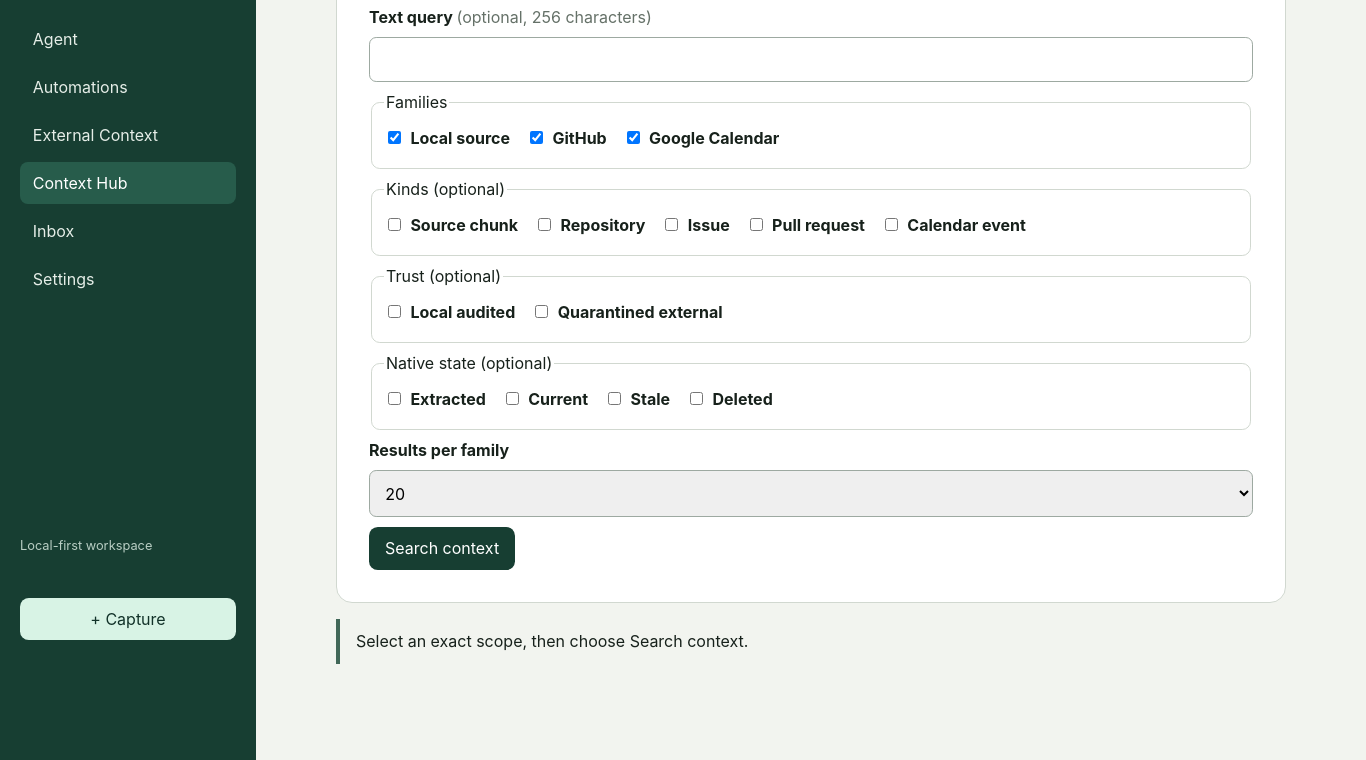
Test: Context Hub › provides the route and navigation but performs no Hub read before exact scope submission
(page scrolled)
Click the button "Search context". click: (442, 548)
box: [369,527,515,570]
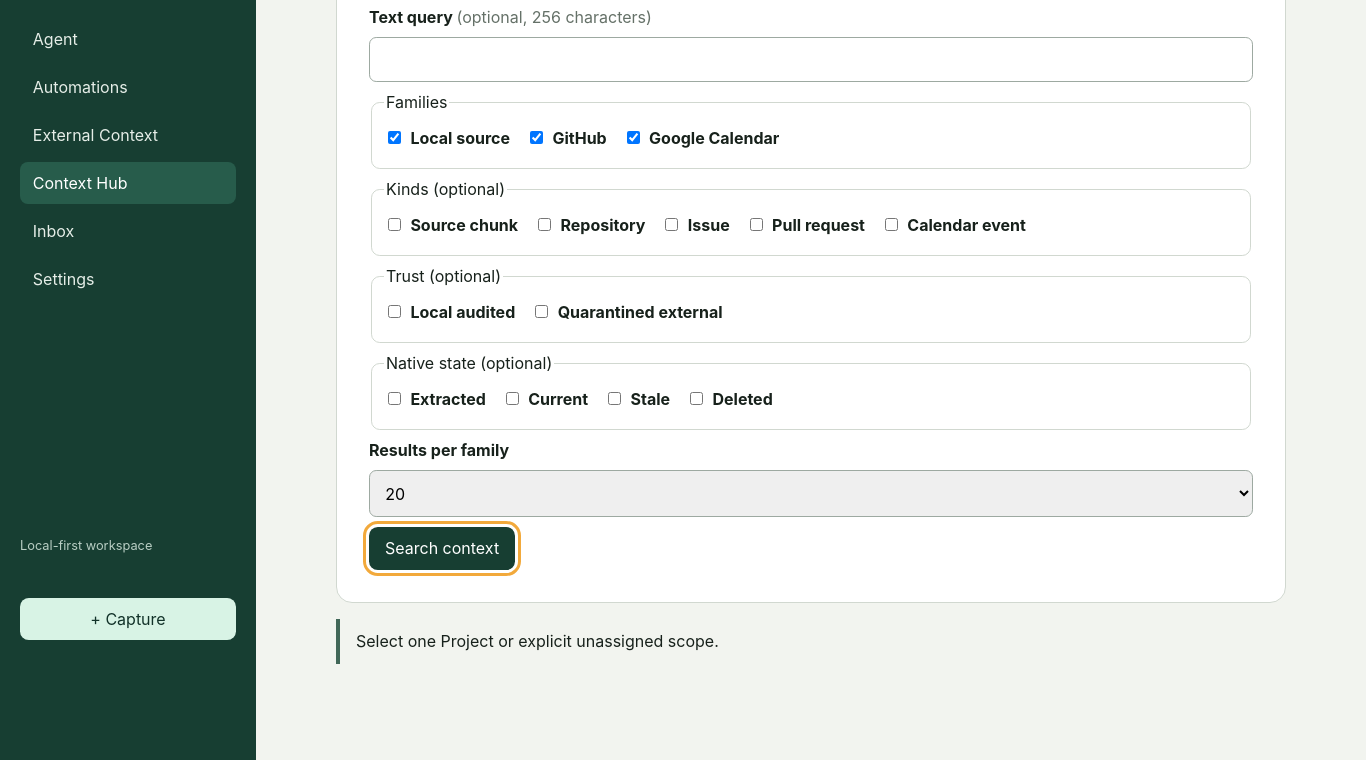
expect the message "Select one Project or explicit unassigned scope." is shown: met, box [336,619,1286,664]
